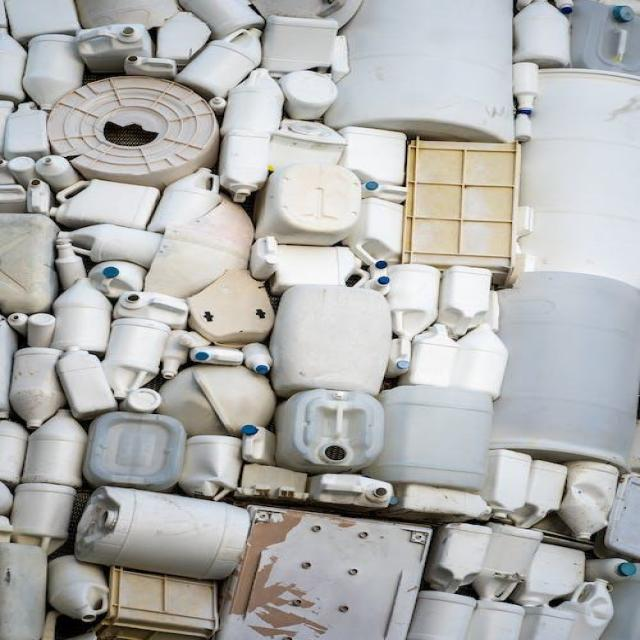plastic: (81, 479, 256, 584), (52, 86, 212, 198), (276, 391, 393, 477)
trash: (17, 5, 590, 638)
